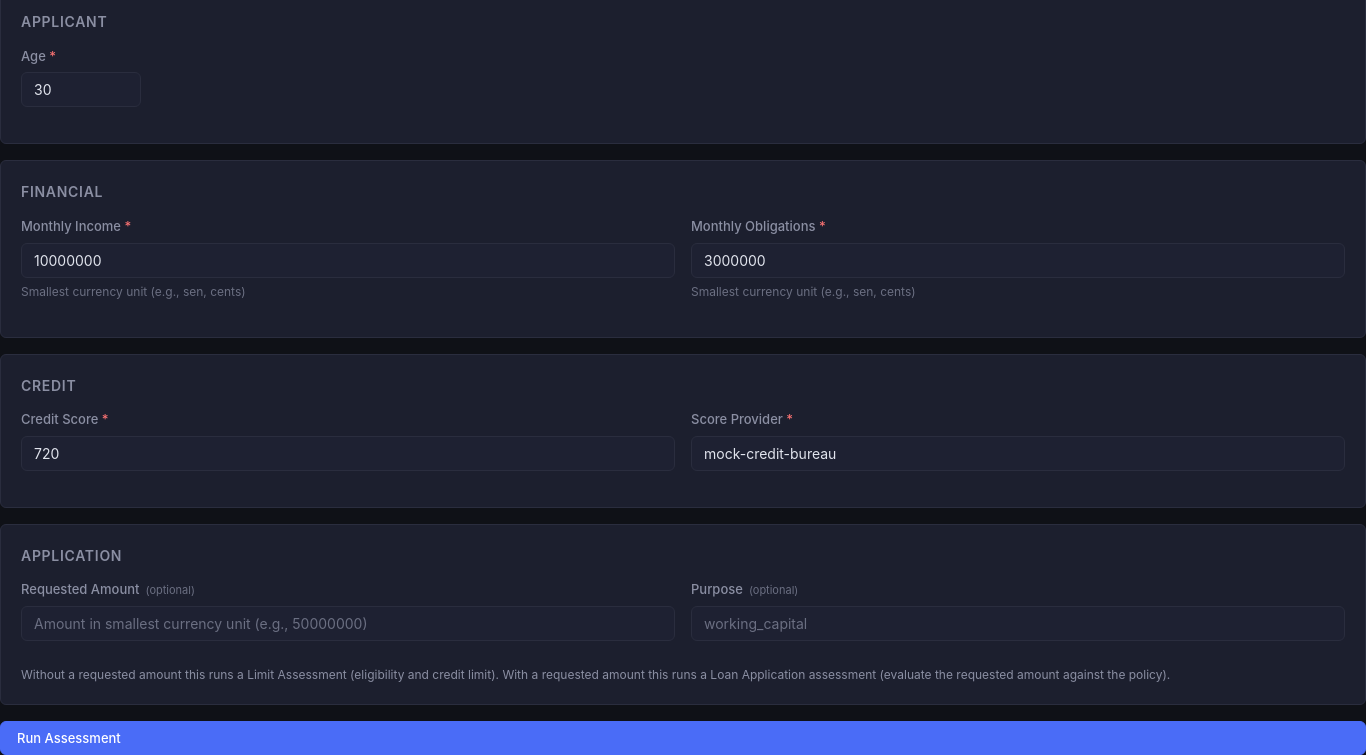
Test case: NewAssessment (Assessment Simulator) › handles API 4xx error
The image size is (1366, 755).
(page scrolled)
Click the button "Run Assessment" at (69, 738), box 0,721 -> 1365,754
(page scrolled)
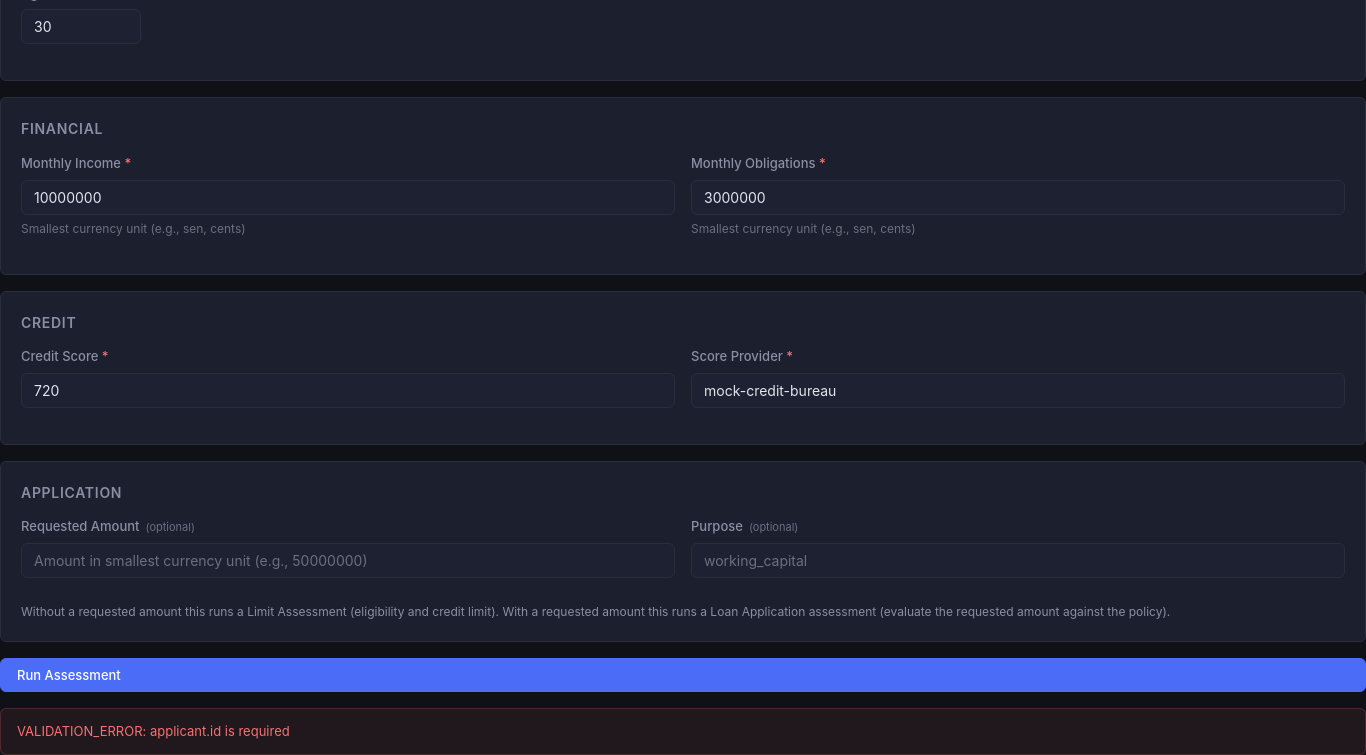
Expected: the text "VALIDATION_ERROR: applicant.id is required" is shown, 0,708 -> 1365,754
